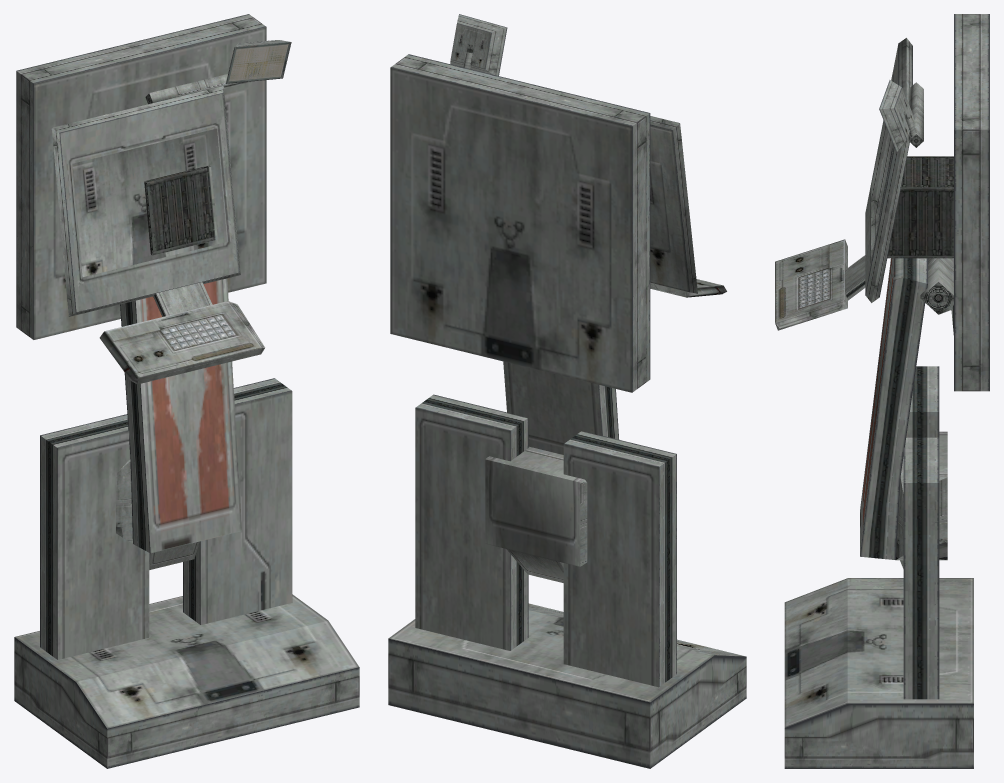
File: ksk_all_mission_l1.fbx
The picture shows the model from 3 angles, left to right: view 1: azimuth 30°, elevation 25°; view 2: azimuth 150°, elevation 25°; view 3: azimuth 270°, elevation 25°; orthographic projection. The views are drawn at different scales.
Visible parts, largest first — view 1: mesh_node; view 2: mesh_node; view 3: mesh_node.
Part boxes in pixels (left/top/right/bottom): mesh_node: left=14, top=14, right=359, bottom=768; mesh_node: left=388, top=14, right=746, bottom=768; mesh_node: left=775, top=14, right=989, bottom=768.
Bounding box in the file's own units: 0.8471 × 2.05 × 0.6127.
3 materials, 3 textured.
